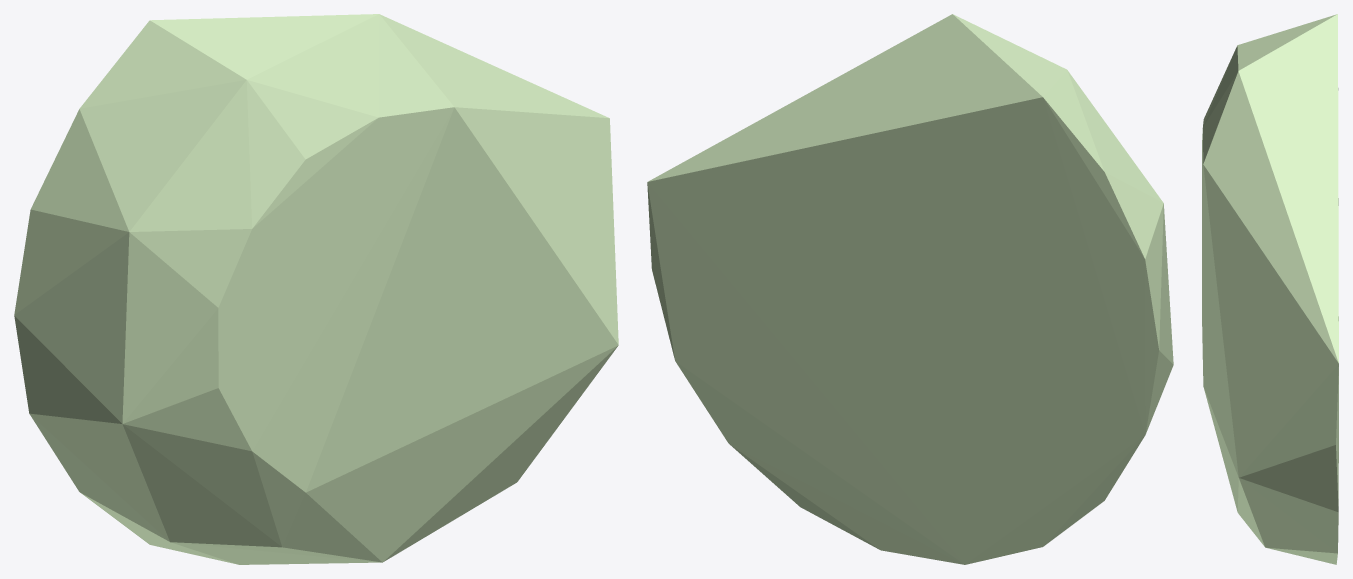
The model's file is kuka_URDF_link8_resp_coll_1.dae.
3 views of the same model, side by side, from view 1: azimuth 30°, elevation 25°; view 2: azimuth 150°, elevation 25°; view 3: azimuth 270°, elevation 25° (orthographic). The views are drawn at different scales.
Parts seen in each view (by area): view 1: Node_0000020FCC58CF90; view 2: Node_0000020FCC58CF90; view 3: Node_0000020FCC58CF90.
Part boxes in pixels (x1=…): Node_0000020FCC58CF90: x1=14, y1=14, x2=618, y2=564; Node_0000020FCC58CF90: x1=647, y1=14, x2=1173, y2=564; Node_0000020FCC58CF90: x1=1202, y1=14, x2=1338, y2=564.
Size of the model in its own units: 0.1039 by 0.0975 by 0.0257.
